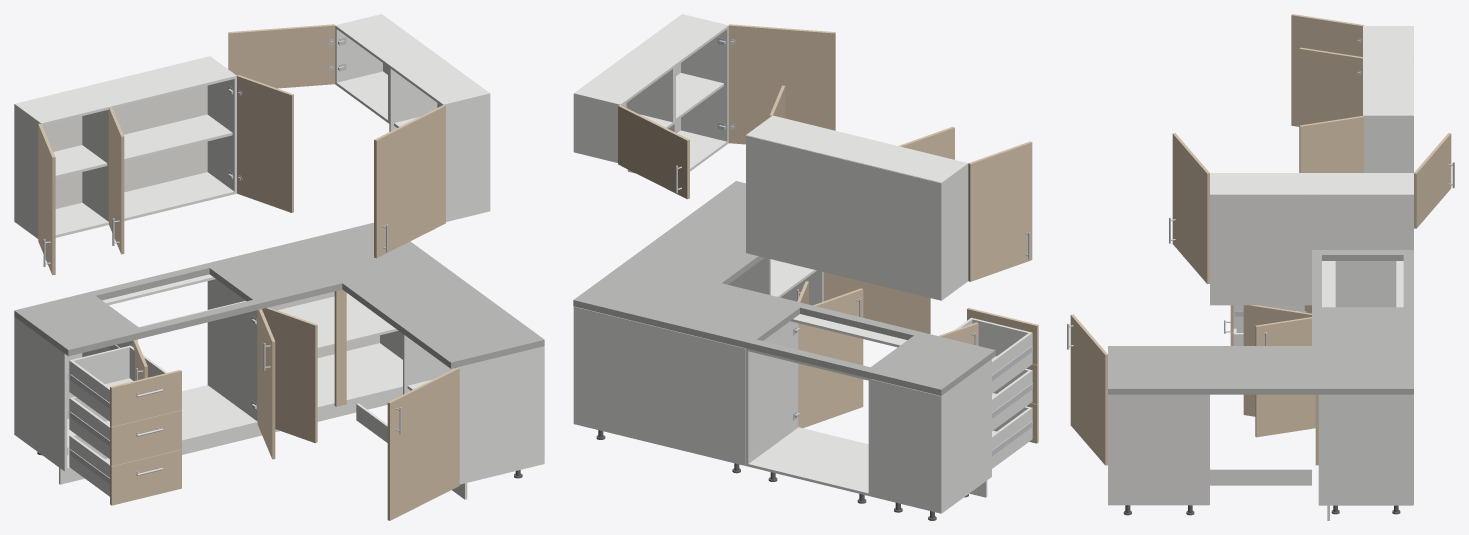
The model's file is kitchen_corner_open.glb.
3 views of the same model, side by side, from view 1: azimuth 30°, elevation 25°; view 2: azimuth 150°, elevation 25°; view 3: azimuth 270°, elevation 25° (orthographic). The views are drawn at different scales.
Visible parts, largest first — view 1: 42:countertop, 67:countertop2, 59:base2[1].side.right, 65:base2[1].doors.door[1], 80:wall2[1].doors.door[1], 57:wall[1].doors.door[2], 1:base[0].side.left, 73:wall2[0].doors.door[1], 31:base[1].doors.door[2], 75:wall2[1].side.right, 54:wall[1].back, 26:base[1].side.right (+34 smaller); view 2: 37:base[2].back, 42:countertop, 54:wall[1].back, 80:wall2[1].doors.door[1], 6:base[0].back, 47:wall[0].back, 49:wall[0].doors.door[1], 67:countertop2, 1:base[0].side.left, 39:base[2].doors.door[1], 26:base[1].side.right, 27:base[1].bottom (+22 smaller); view 3: 78:wall2[1].back, 63:base2[1].back, 42:countertop, 33:base[2].side.right, 67:countertop2, 72:wall2[0].back, 56:wall[1].doors.door[1], 65:base2[1].doors.door[1], 80:wall2[1].doors.door[1], 31:base[1].doors.door[2], 57:wall[1].doors.door[2], 49:wall[0].doors.door[1] (+10 smaller).
Part boxes in pixels (bbox=[...]): 42:countertop: bbox=[14, 222, 435, 356]; 67:countertop2: bbox=[342, 260, 544, 368]; 59:base2[1].side.right: bbox=[456, 346, 544, 484]; 65:base2[1].doors.door[1]: bbox=[387, 367, 459, 520]; 80:wall2[1].doors.door[1]: bbox=[374, 105, 445, 258]; 57:wall[1].doors.door[2]: bbox=[237, 75, 293, 212]; 1:base[0].side.left: bbox=[14, 317, 67, 471]; 73:wall2[0].doors.door[1]: bbox=[228, 24, 335, 88]; 31:base[1].doors.door[2]: bbox=[262, 307, 317, 443]; 75:wall2[1].side.right: bbox=[442, 92, 489, 221]; 54:wall[1].back: bbox=[114, 85, 207, 192]; 26:base[1].side.right: bbox=[207, 279, 257, 420]; 37:base[2].back: bbox=[573, 306, 745, 465]; 42:countertop: bbox=[573, 260, 995, 395]; 54:wall[1].back: bbox=[746, 135, 870, 283]; 80:wall2[1].doors.door[1]: bbox=[728, 24, 835, 144]; 6:base[0].back: bbox=[871, 379, 941, 513]; 47:wall[0].back: bbox=[871, 166, 941, 300]; 49:wall[0].doors.door[1]: bbox=[968, 141, 1032, 281]; 67:countertop2: bbox=[628, 181, 764, 284]; 1:base[0].side.left: bbox=[941, 359, 991, 513]; 39:base[2].doors.door[1]: bbox=[798, 288, 863, 428]; 26:base[1].side.right: bbox=[746, 321, 798, 466]; 27:base[1].bottom: bbox=[748, 427, 868, 495]; 78:wall2[1].back: bbox=[1210, 194, 1311, 305]; 63:base2[1].back: bbox=[1108, 395, 1209, 505]; 42:countertop: bbox=[1312, 250, 1413, 394]; 33:base[2].side.right: bbox=[1318, 394, 1413, 505]; 67:countertop2: bbox=[1108, 346, 1311, 394]; 72:wall2[0].back: bbox=[1312, 194, 1413, 249]; 56:wall[1].doors.door[1]: bbox=[1299, 47, 1362, 125]; 65:base2[1].doors.door[1]: bbox=[1070, 314, 1107, 465]; 80:wall2[1].doors.door[1]: bbox=[1172, 133, 1209, 284]; 31:base[1].doors.door[2]: bbox=[1255, 317, 1315, 437]; 57:wall[1].doors.door[2]: bbox=[1299, 116, 1363, 172]; 49:wall[0].doors.door[1]: bbox=[1291, 14, 1363, 126].
Size of the model in its own units: 2.54 by 2.12 by 2.28.
